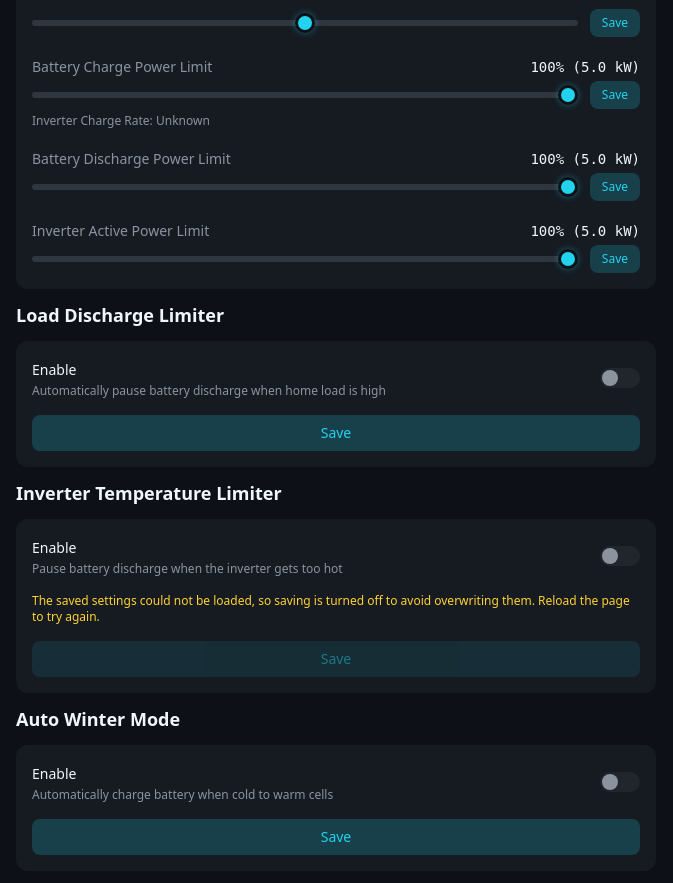
it: <ControlPage/> — Load Discharge Limiter save › shows an error when the save is rejected
(page scrolled)
What coordinates should you click on to do the following:
click the button "Save" below "Load Discharge Limiter"
I would click on:
 (336, 433)
Its box is [32,415,640,451].
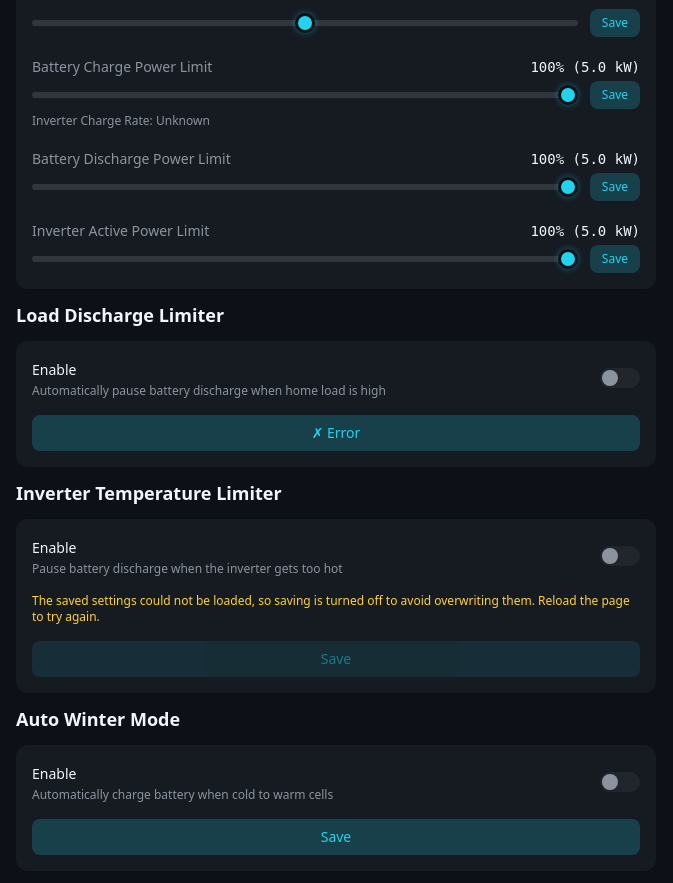
Now the button "✗ Error" is shown, box [32,415,640,451]
